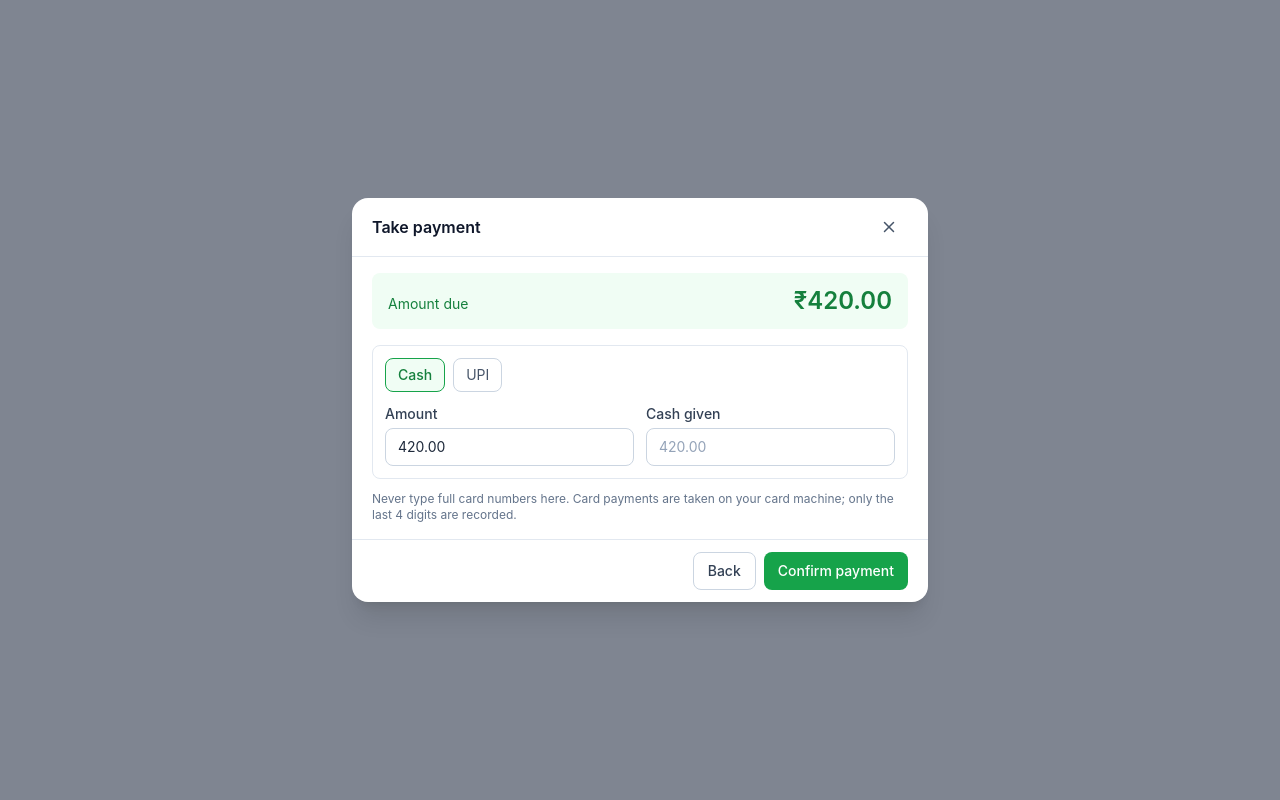
PaymentModal › blocks confirmation when a split does not add up
Replace the text in the number field labelled "Amount" with "100" at (510, 447), box [385,428,634,466]
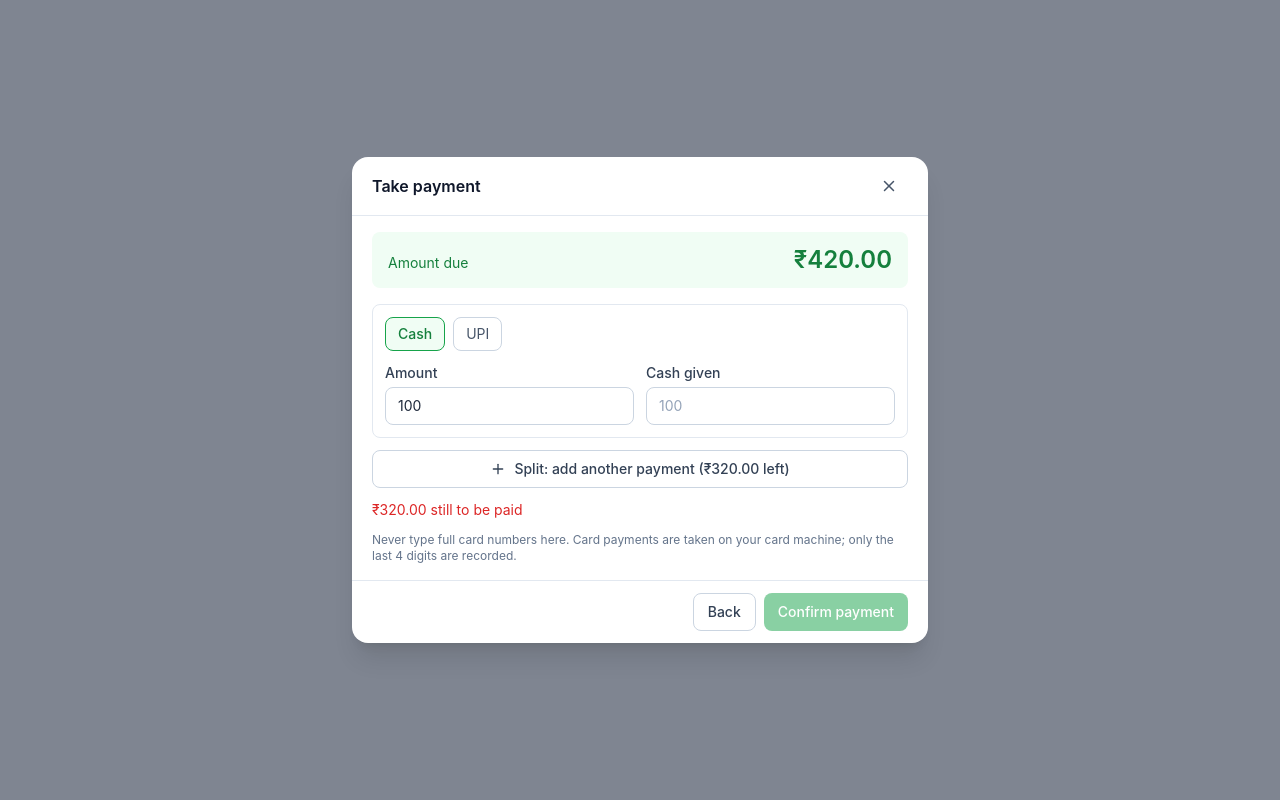
expect the button "Confirm payment" is disabled: met, box [764,593,908,631]
Click the button "Split: add another payment (₹320.00 left)" at (640, 469), box [372,450,908,488]
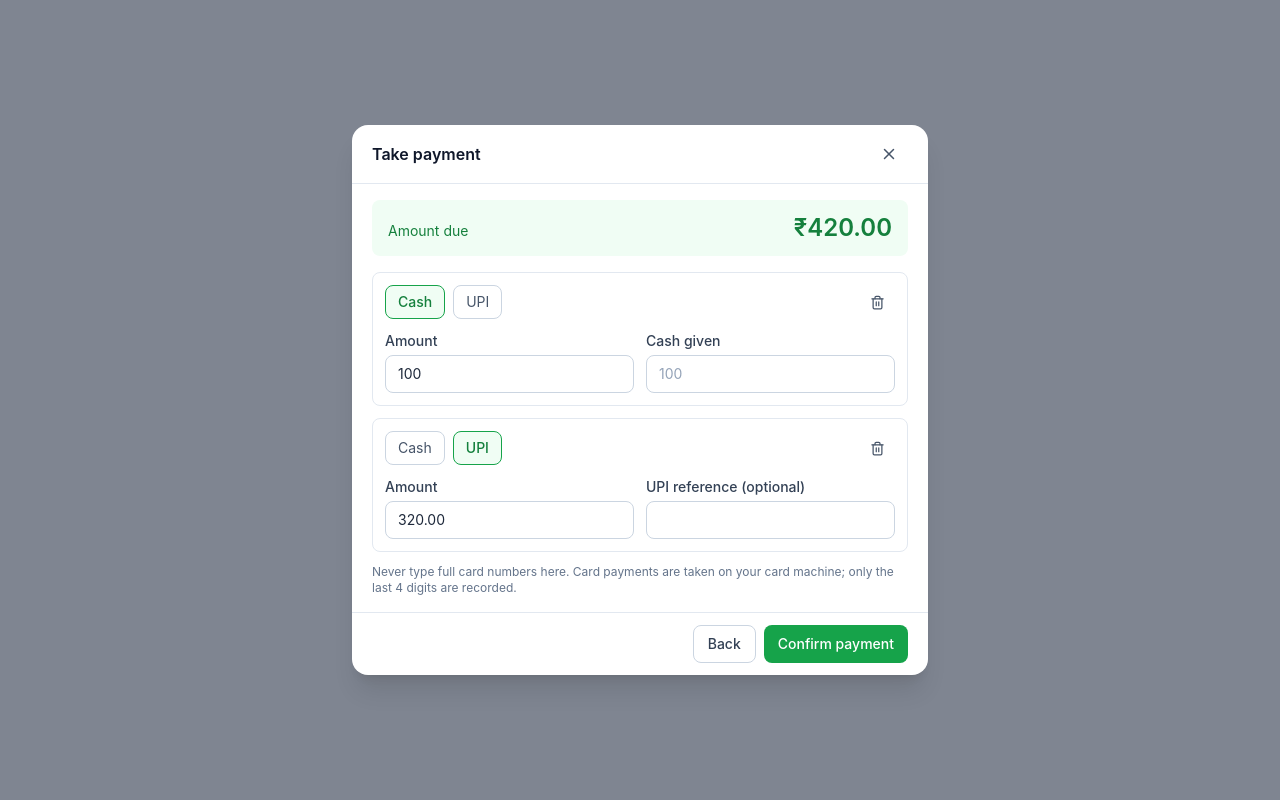
expect the number of number fields labelled "Amount" is 2: met, box [385,355,634,393]; [385,501,634,539]
expect the button "Confirm payment" is enabled: met, box [764,625,908,663]
